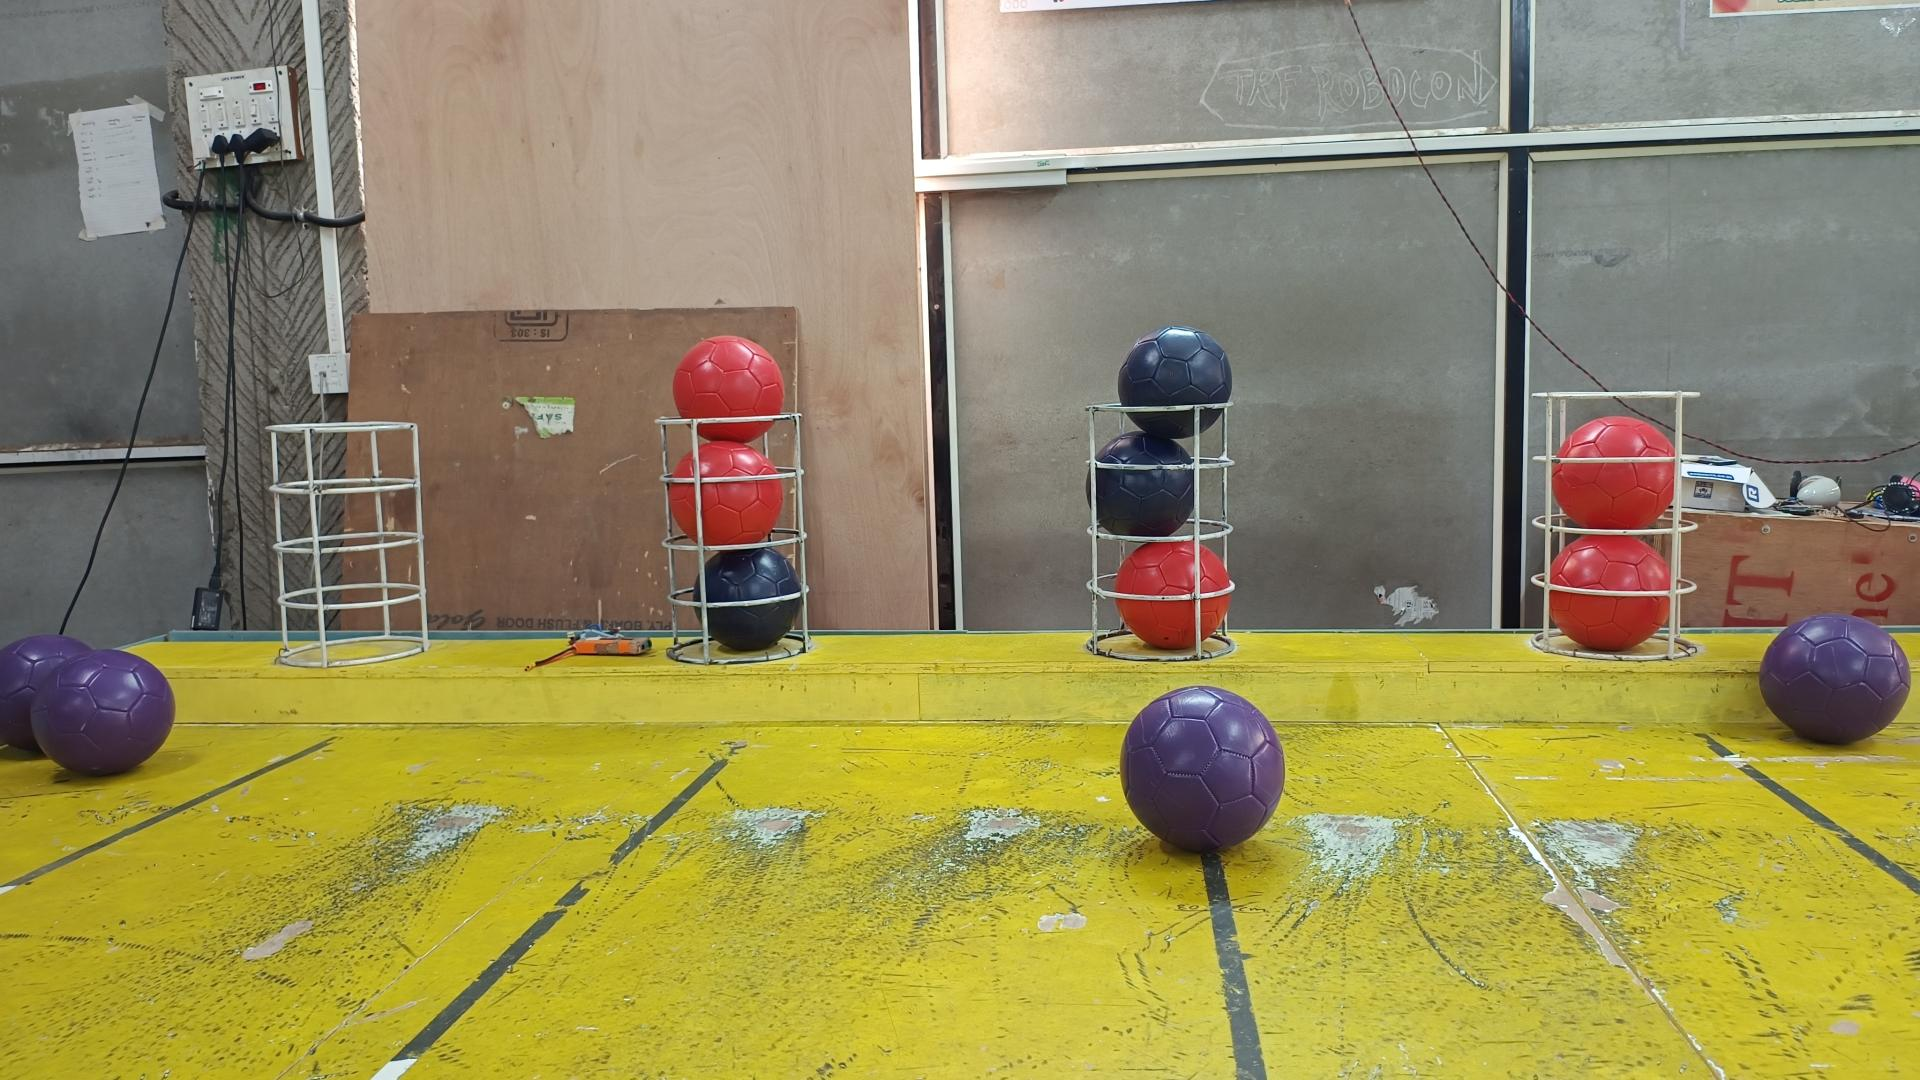dhoka: (1117, 326, 1234, 439), (1084, 431, 1196, 537), (694, 547, 803, 653)
laale: (1545, 533, 1672, 653), (1552, 417, 1672, 529), (1114, 541, 1230, 649), (667, 443, 783, 547), (675, 338, 783, 443)
